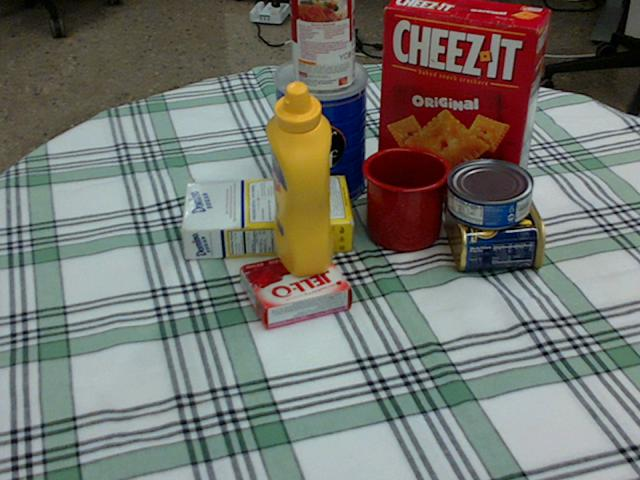cracker_box: (376, 0, 553, 211)
gelatin_box: (242, 248, 352, 328)
master_chef_can: (273, 56, 367, 207)
mug: (363, 145, 453, 250)
mustard_bottle: (266, 80, 332, 276)
potted_meat_can: (445, 179, 544, 266)
sugar_box: (180, 174, 352, 259)
tomato_soup_can: (291, 0, 356, 91)
tuna_fish_can: (446, 160, 533, 228)
